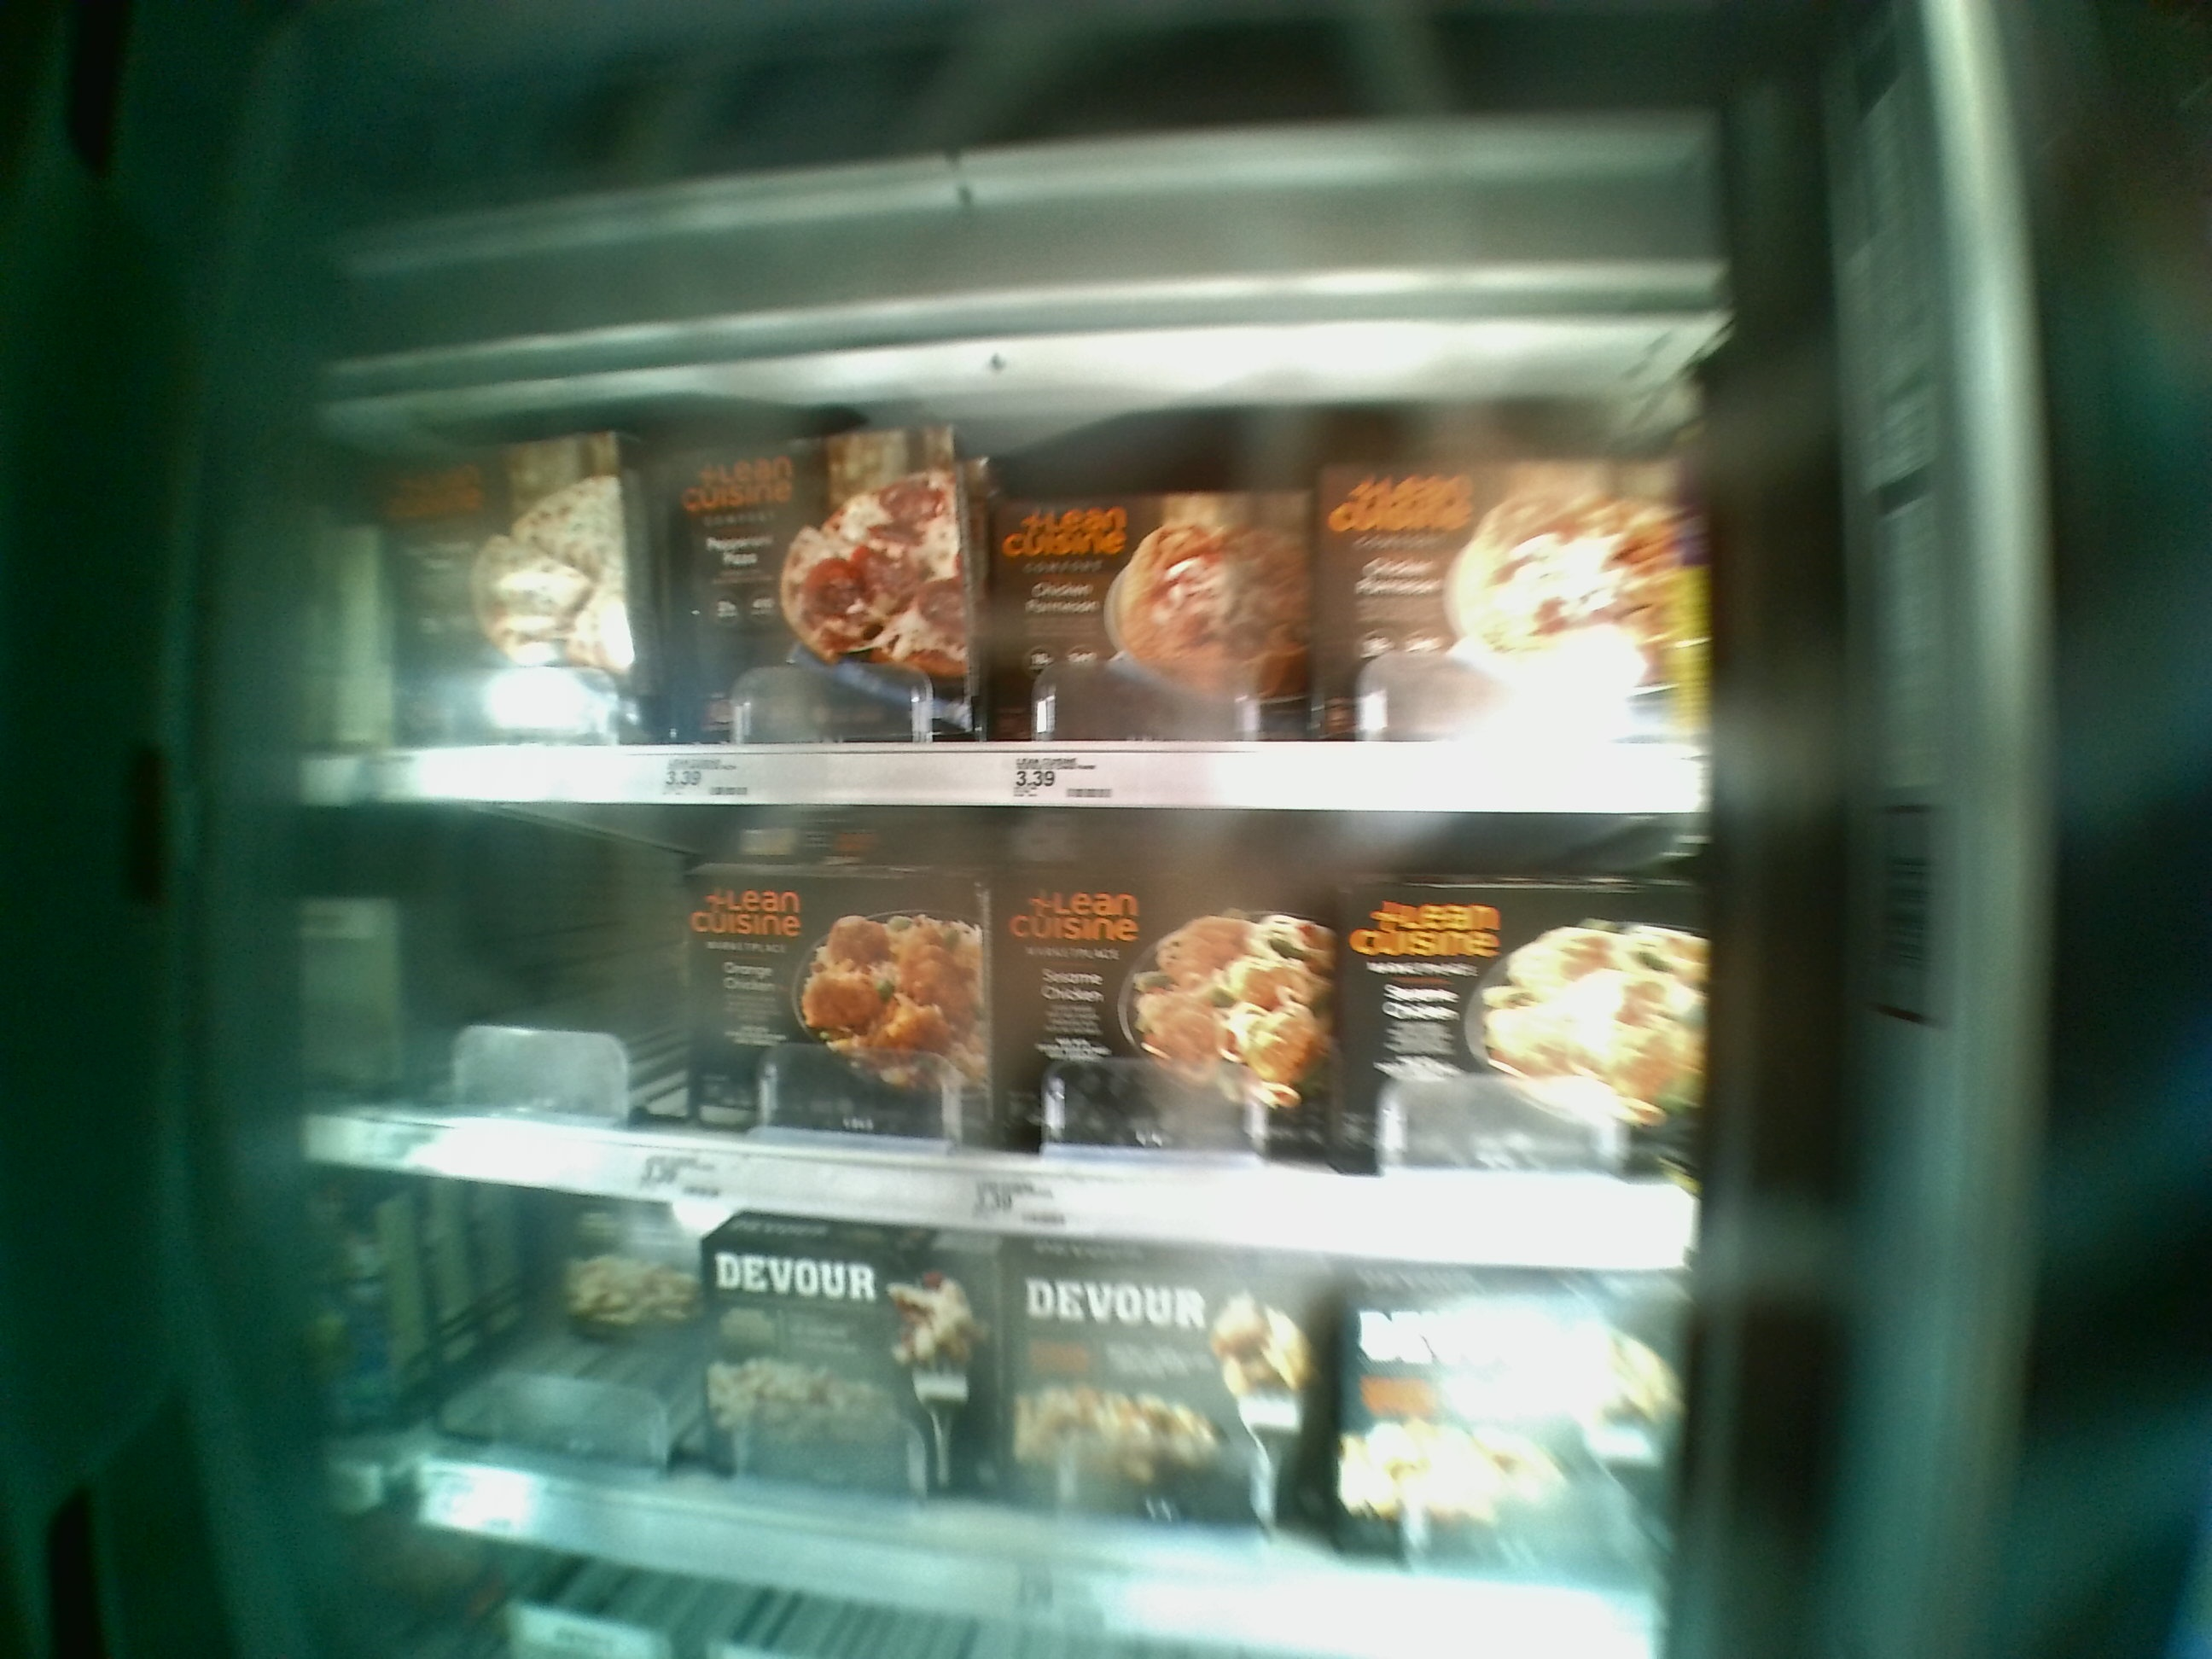shelf: (284, 807, 1702, 1281), (308, 345, 1709, 817)
